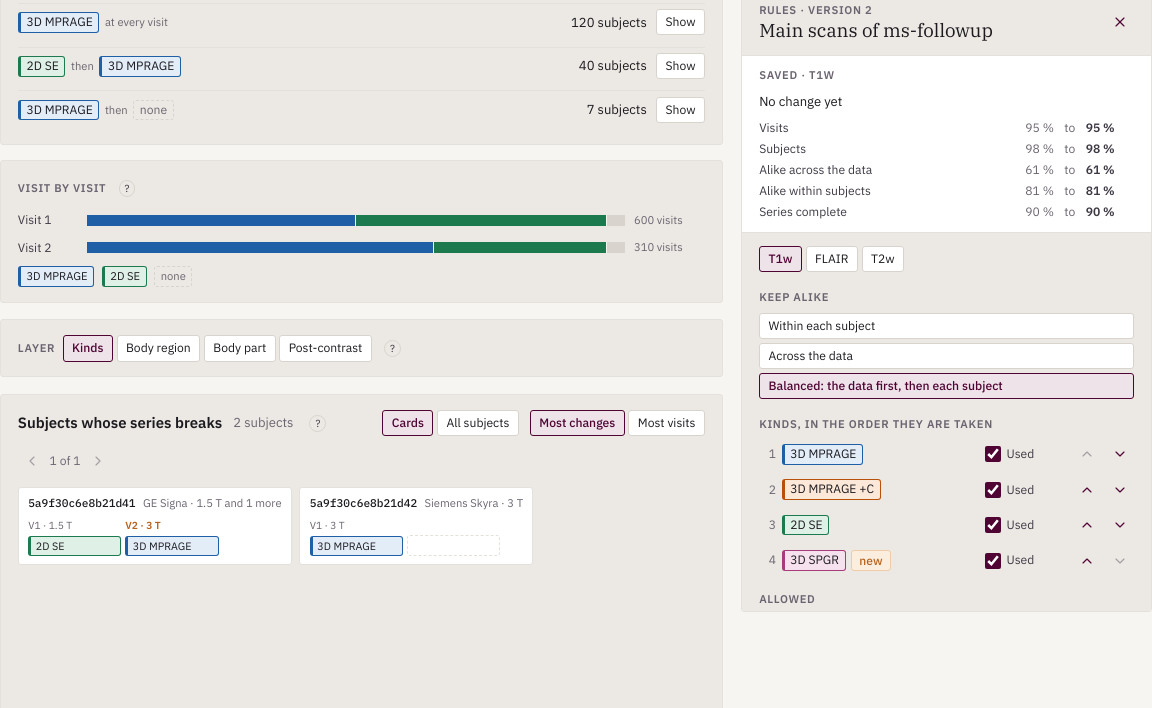
Main scans' layers › flags a visit the subject had contrast in the 72 hours before
This screenshot has width=1152, height=708.
(page scrolled)
Click the button "Post-contrast": (326,348) x1=279 y1=335 x2=372 y2=362
(page scrolled)
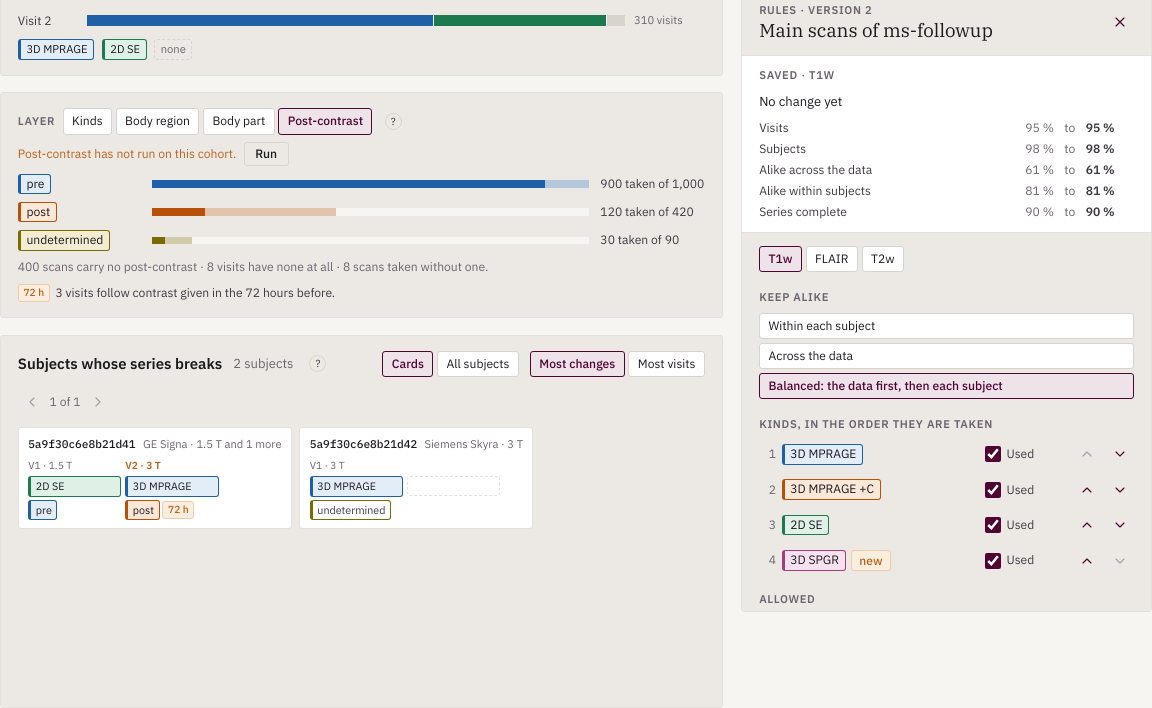
Result: the text with class "caution" below "5a9f30c6e8b21d41" reads "72 h" at x1=168 y1=502 x2=189 y2=516
Result: the text with class "ms-layer-tag" below "5a9f30c6e8b21d41" reads "post" at x1=133 y1=503 x2=154 y2=517
